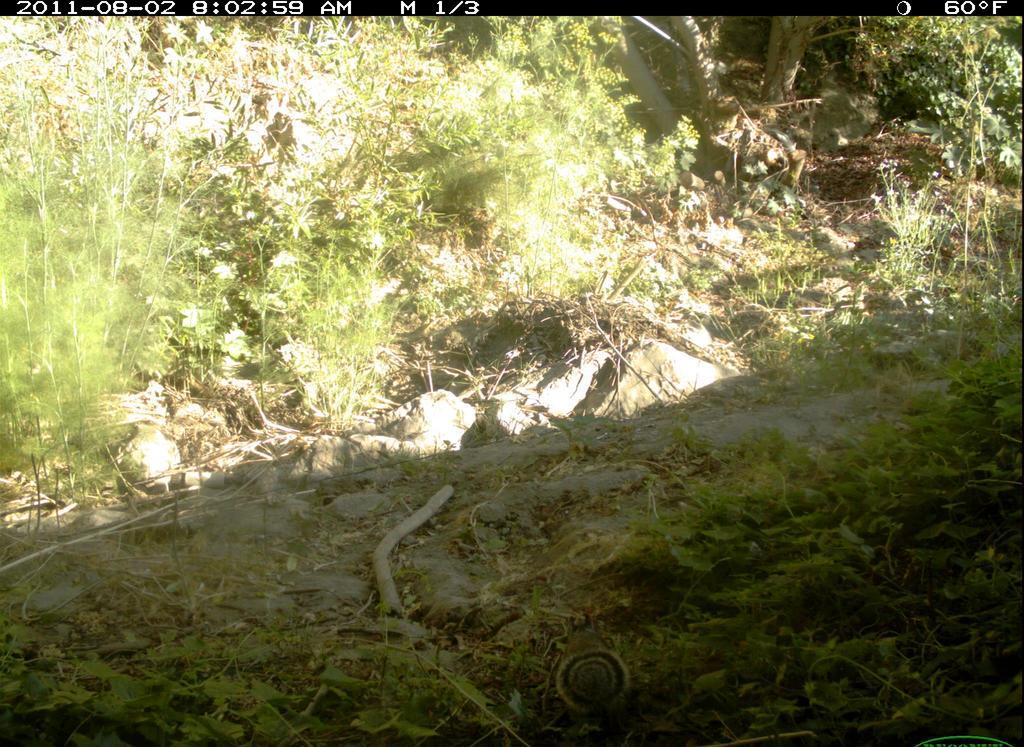squirrel: (548, 613, 643, 728)
